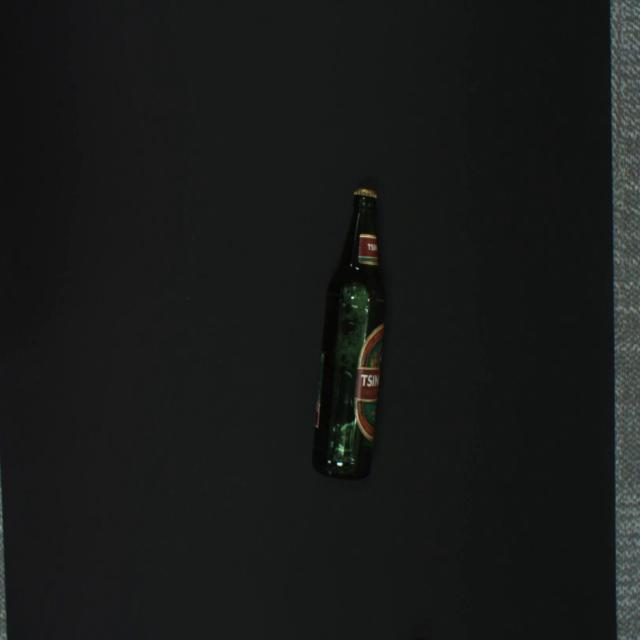beer-bottle: (312, 187, 386, 481)
